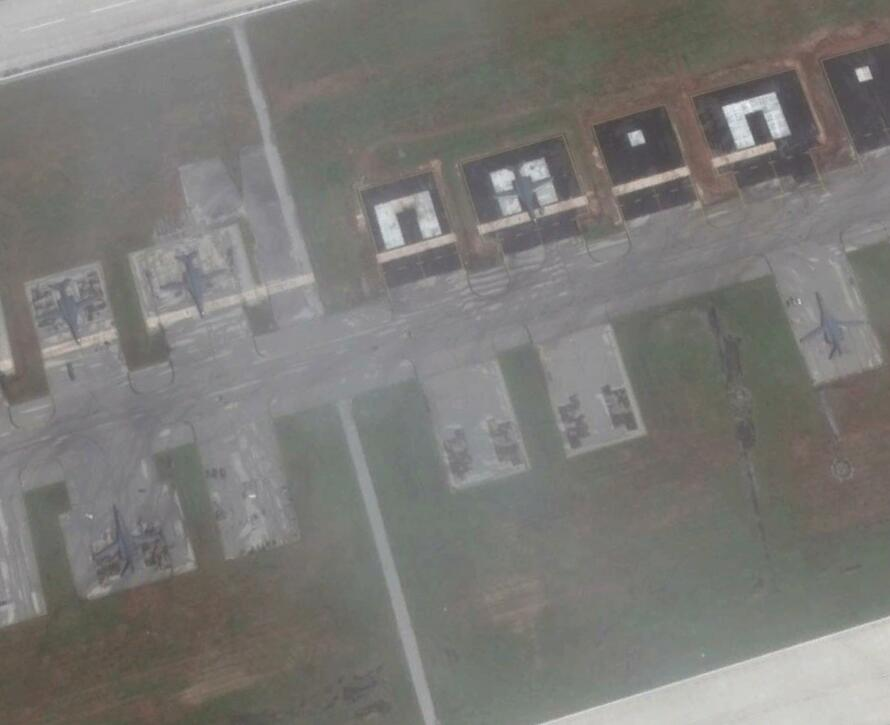A10: (88, 504, 162, 583), (798, 291, 871, 362), (161, 252, 234, 317), (38, 279, 104, 346), (491, 159, 559, 224)
